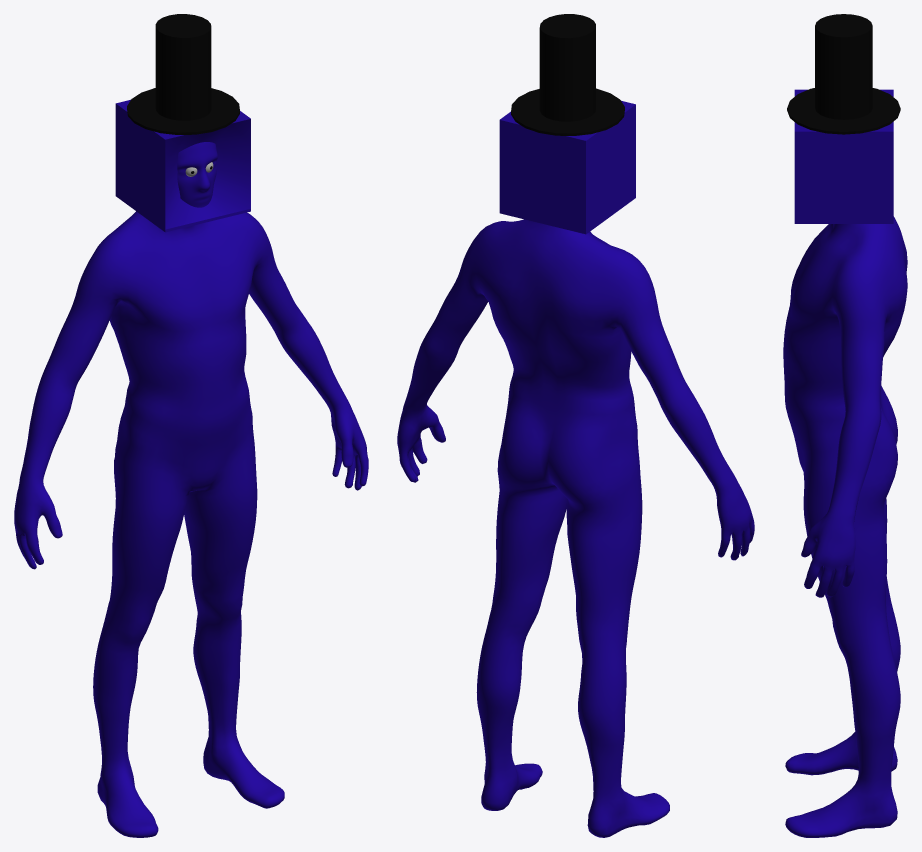
File: Jimbo.fbx
The picture shows the model from 3 angles, left to right: view 1: azimuth 30°, elevation 25°; view 2: azimuth 150°, elevation 25°; view 3: azimuth 270°, elevation 25°; orthographic projection.
Parts seen in each view (by area): view 1: HumanBody:humanBody1; view 2: HumanBody:humanBody1; view 3: HumanBody:humanBody1.
Part boxes in pixels (x1=…): HumanBody:humanBody1: x1=14, y1=14, x2=368, y2=837; HumanBody:humanBody1: x1=397, y1=14, x2=754, y2=837; HumanBody:humanBody1: x1=783, y1=14, x2=907, y2=837.
Bounding box in the file's own units: 95.48 × 205 × 29.88.
